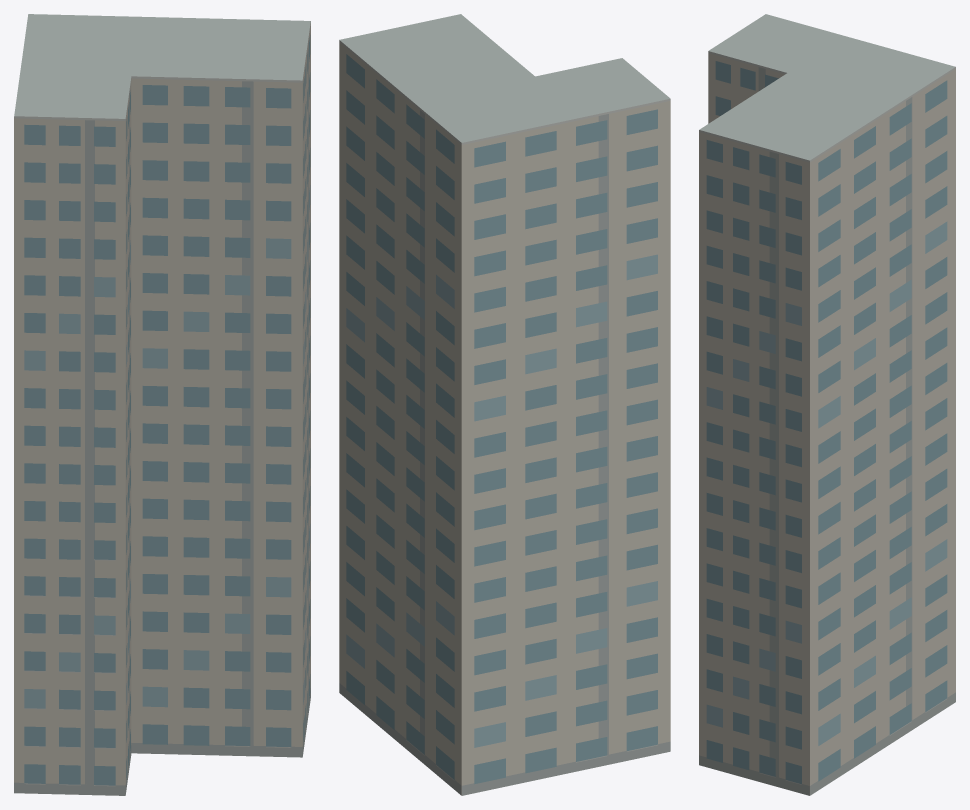
Rendered from residential-0c678fc7-1fd9-4a75-8cea-69e326f8df56.glb.
3 renders of one model, left to right at view 1: azimuth 30°, elevation 25°; view 2: azimuth 150°, elevation 25°; view 3: azimuth 270°, elevation 25°, orthographic. The views are drawn at different scales.
Parts seen in each view (by area): view 1: residential-0c678fc7-1fd9-4a75-8cea-69e326f8df56.tmp; view 2: residential-0c678fc7-1fd9-4a75-8cea-69e326f8df56.tmp; view 3: residential-0c678fc7-1fd9-4a75-8cea-69e326f8df56.tmp.
Part boxes in pixels (box(x1,y1,x2,y2)): residential-0c678fc7-1fd9-4a75-8cea-69e326f8df56.tmp: box(14, 14, 310, 795); residential-0c678fc7-1fd9-4a75-8cea-69e326f8df56.tmp: box(339, 14, 670, 795); residential-0c678fc7-1fd9-4a75-8cea-69e326f8df56.tmp: box(699, 14, 955, 795).
Size of the model in its own units: 37.62 by 76 by 27.84.
